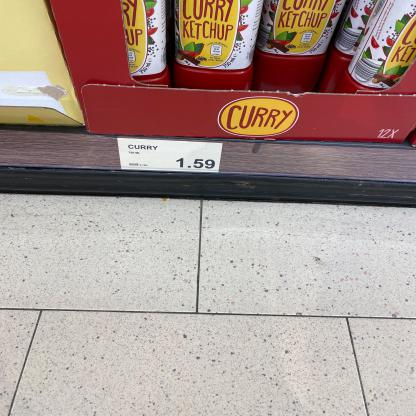prtg: (119, 140, 224, 174)
